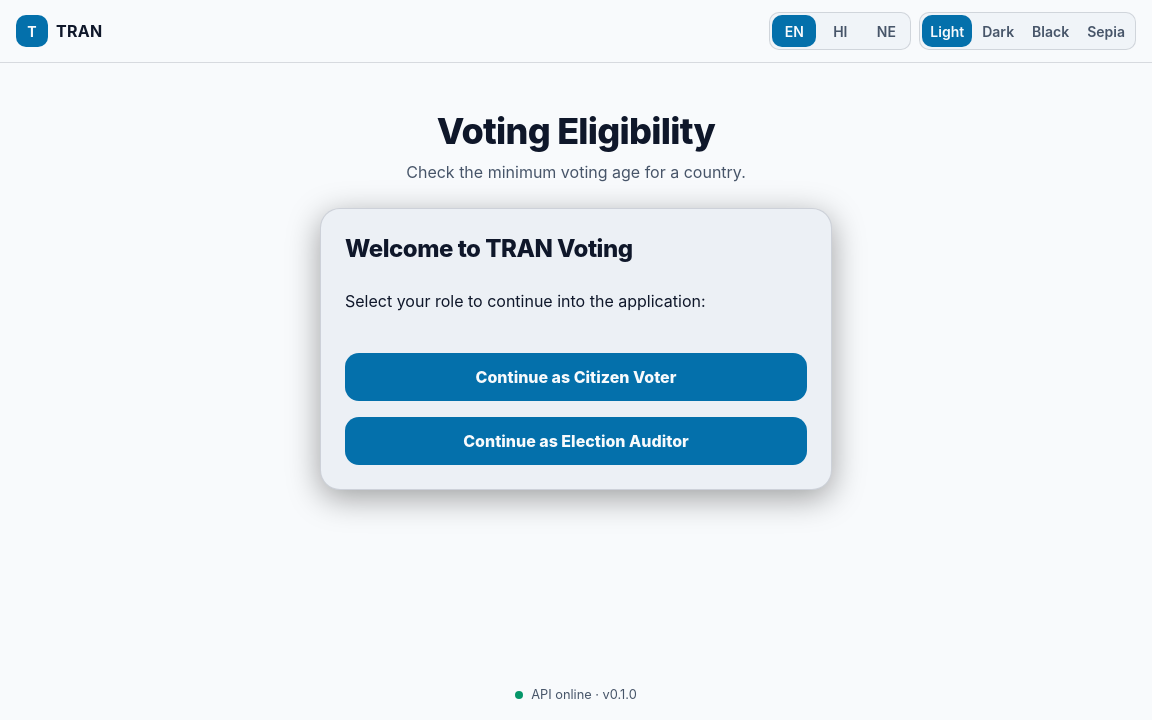
App: navigation and role branching › [REQ-NAV-003] branches into Citizen Voter dashboard upon selection
The width and height of the screenshot is (1152, 720).
Expected: the text "API online · v0.1.0" is shown, x1=515 y1=686 x2=637 y2=704
Click the button "Continue as Citizen Voter". click: (576, 377)
box: x1=345 y1=353 x2=807 y2=401
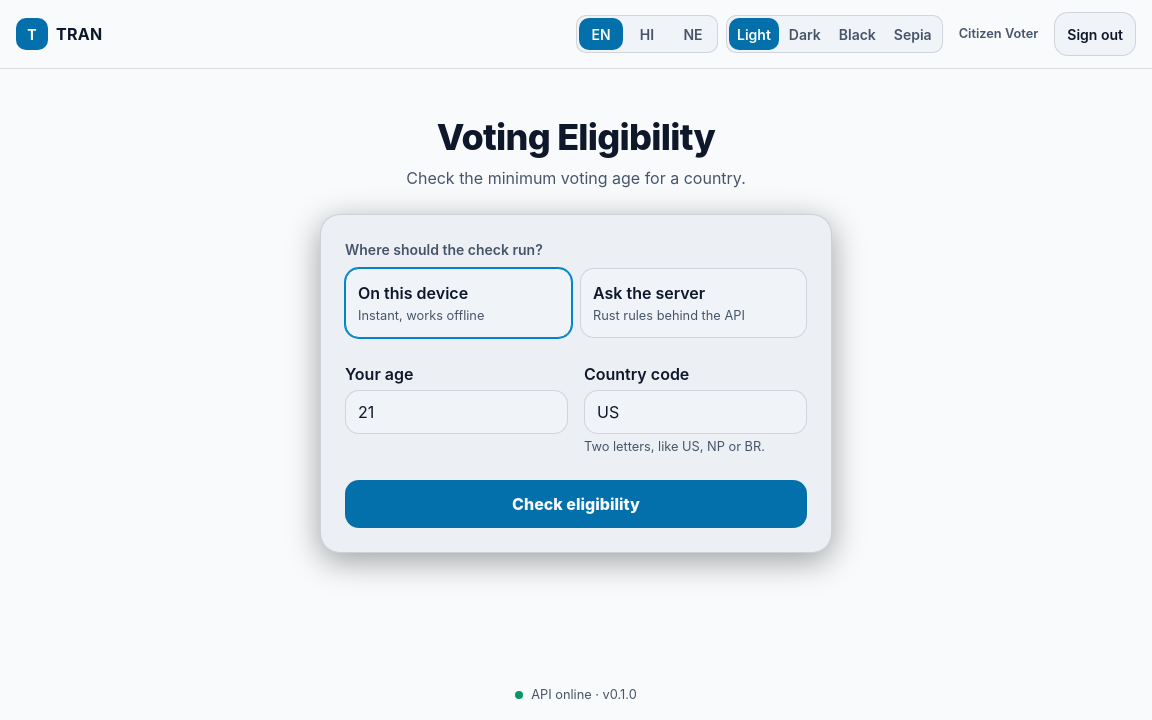
Expected: the text with test id "role-badge" reads "Citizen Voter", x1=959 y1=26 x2=1038 y2=41
Now the field labelled "Your age" is shown, box x1=345 y1=390 x2=568 y2=434
